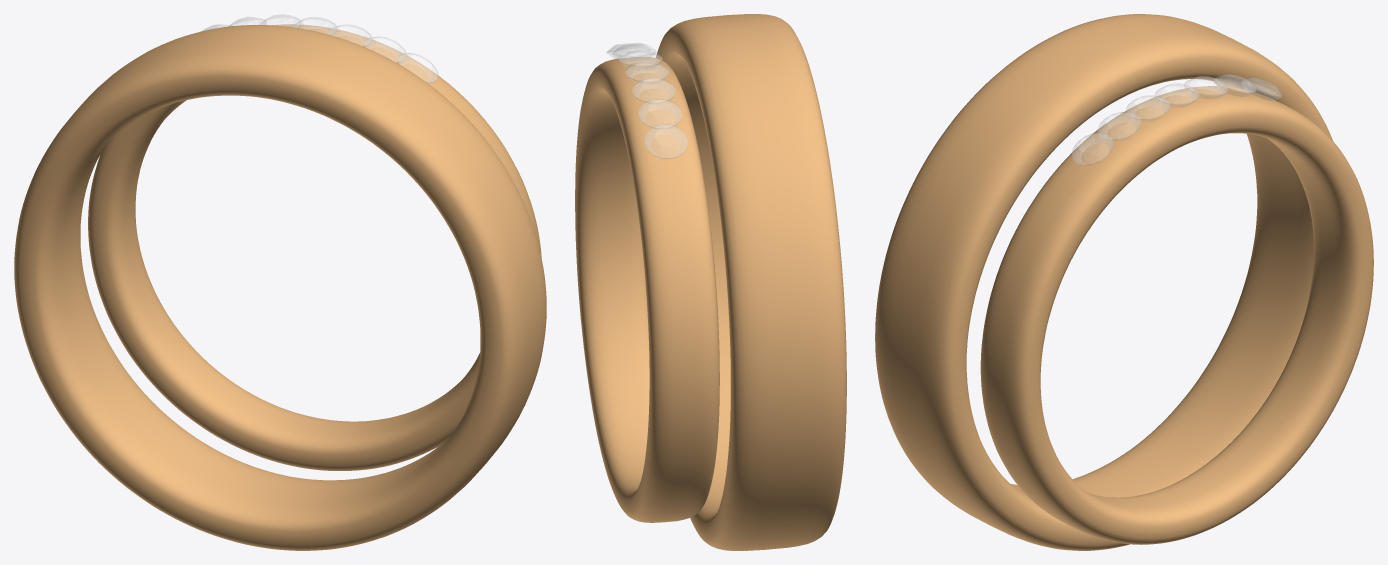
The model's file is wedding-bands.glb.
3 views of the same model, side by side, from view 1: azimuth 30°, elevation 25°; view 2: azimuth 150°, elevation 25°; view 3: azimuth 270°, elevation 25° (orthographic).
Visible parts, largest first — view 1: metal_wide, metal_narrow, diamond.006, diamond.005; view 2: metal_wide, metal_narrow, diamond, diamond.001, diamond.002, diamond.003, diamond.004, diamond.005, diamond.006; view 3: metal_wide, metal_narrow, diamond.006, diamond.005, diamond.004, diamond.003, diamond.002, diamond.001.
Part boxes in pixels (x1=…): metal_wide: x1=14, y1=25, x2=546, y2=550; metal_narrow: x1=88, y1=24, x2=541, y2=470; diamond.006: x1=398, y1=53, x2=438, y2=83; diamond.005: x1=364, y1=37, x2=406, y2=62; metal_wide: x1=656, y1=14, x2=846, y2=550; metal_narrow: x1=575, y1=57, x2=719, y2=522; diamond: x1=645, y1=124, x2=687, y2=158; diamond.001: x1=639, y1=99, x2=681, y2=129; diamond.002: x1=632, y1=78, x2=675, y2=104; diamond.003: x1=626, y1=61, x2=668, y2=83; diamond.004: x1=619, y1=49, x2=662, y2=68; diamond.005: x1=613, y1=43, x2=655, y2=59; diamond.006: x1=607, y1=43, x2=649, y2=58; metal_wide: x1=875, y1=14, x2=1332, y2=550; metal_narrow: x1=980, y1=86, x2=1373, y2=544; diamond.006: x1=1071, y1=132, x2=1113, y2=165; diamond.005: x1=1098, y1=112, x2=1141, y2=140; diamond.004: x1=1126, y1=95, x2=1169, y2=121; diamond.003: x1=1155, y1=83, x2=1199, y2=107; diamond.002: x1=1184, y1=76, x2=1228, y2=98; diamond.001: x1=1213, y1=74, x2=1256, y2=96.
Bounding box in the file's own units: 19.51 × 23 × 21.1.
